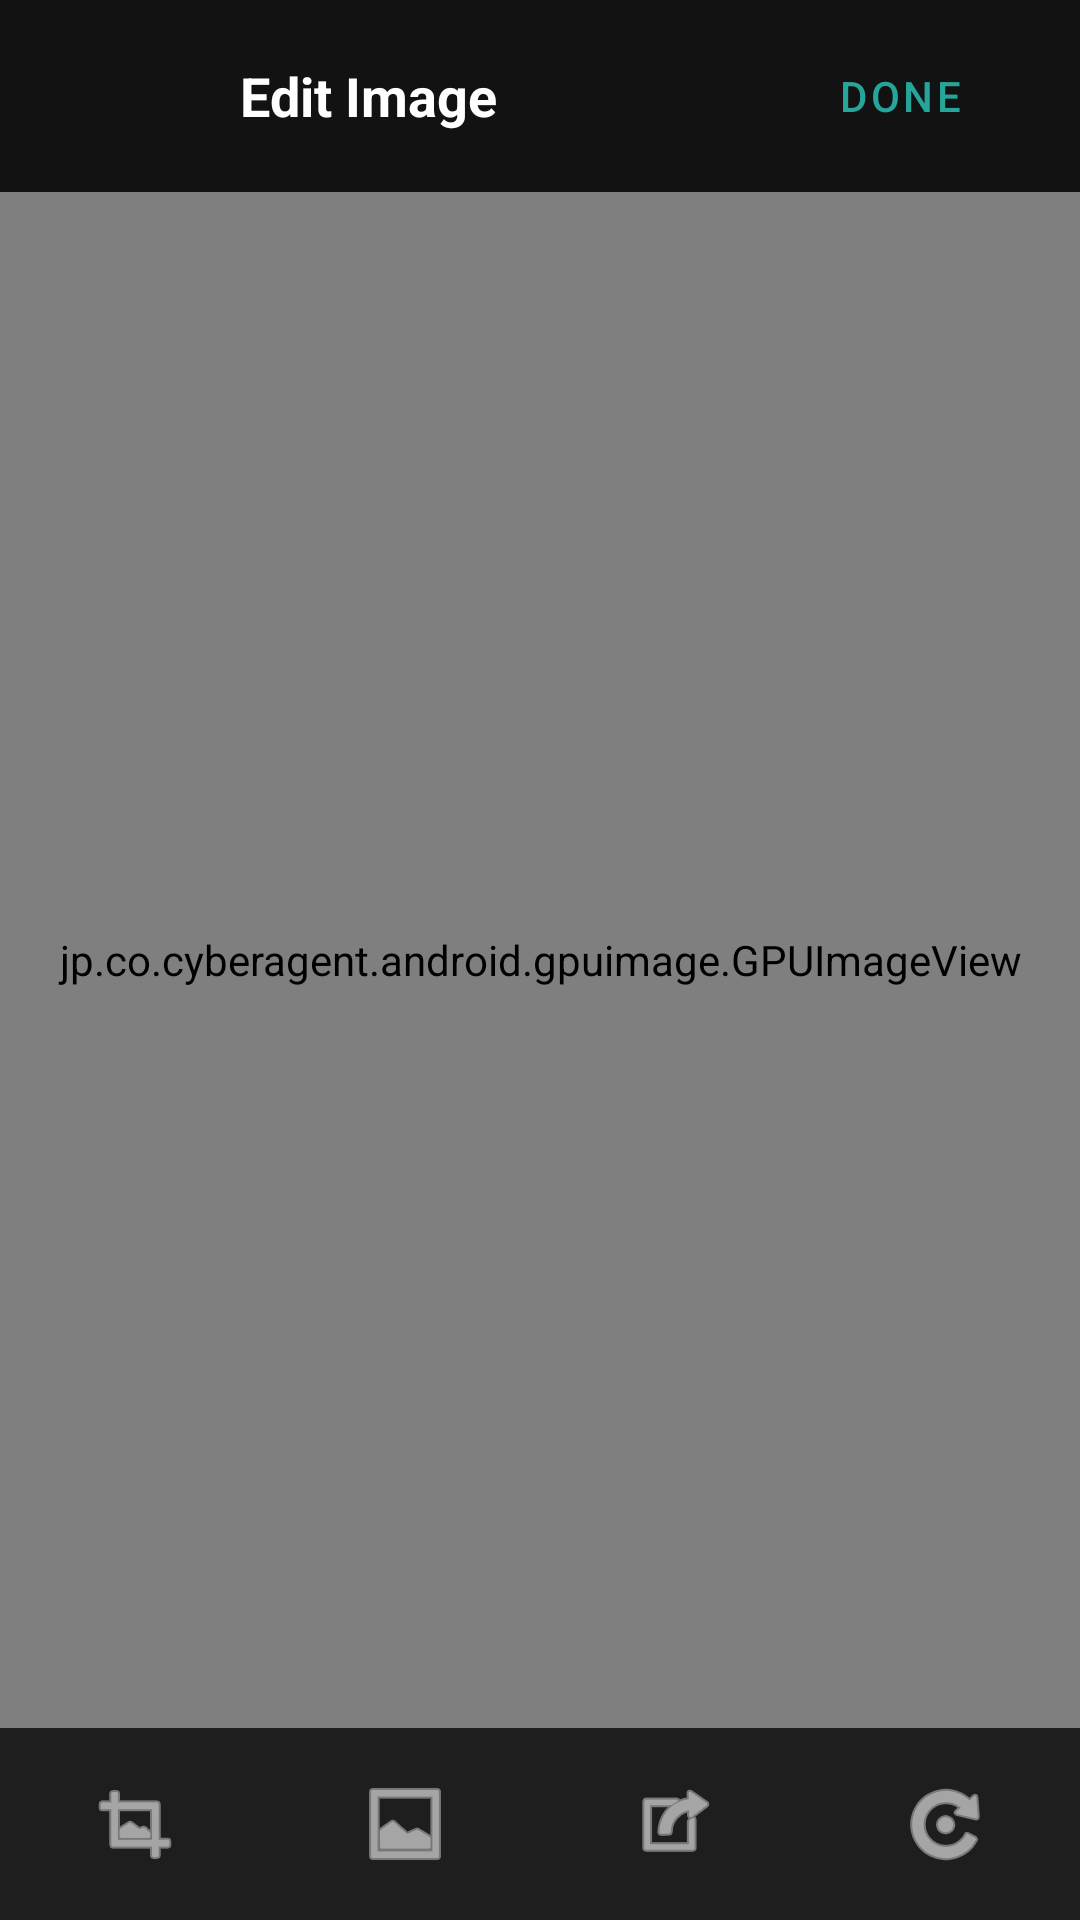

Where to tap for icons on this 1080 × 1920 app screen, as [x,y]:
crop: [135,1824]
gallery: [405,1824]
rotate: [945,1824]
set as: [676,1820]
